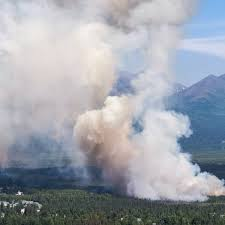smoke: (1, 1, 193, 191)
